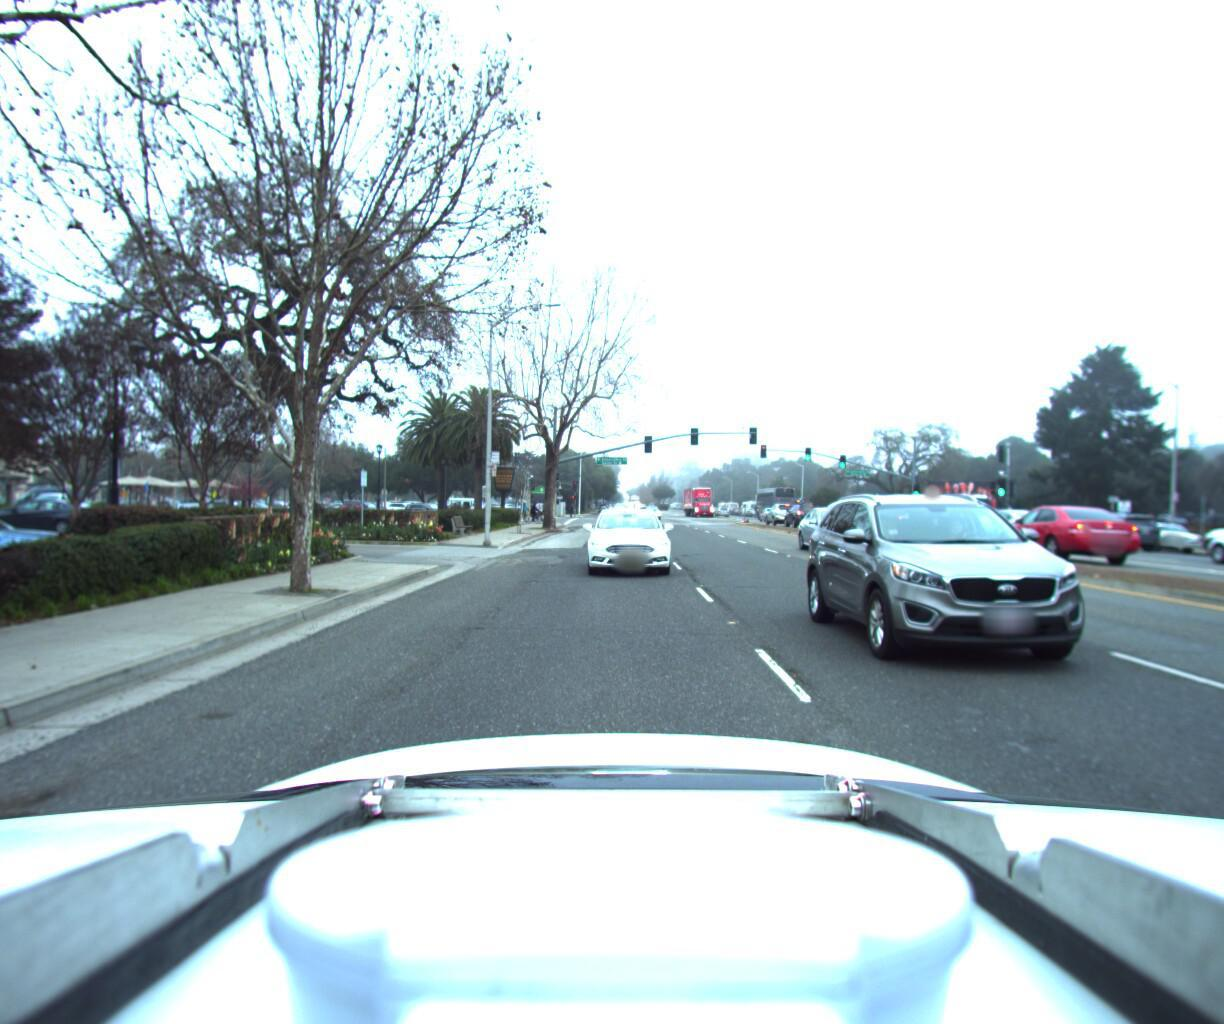bicycle: (521, 493, 546, 516)
car: (809, 470, 1217, 712), (983, 495, 1155, 558), (0, 493, 90, 591), (577, 499, 673, 577), (891, 482, 998, 540), (802, 498, 908, 556), (953, 497, 1066, 542), (1061, 502, 1159, 544), (1112, 511, 1206, 552), (836, 489, 909, 534), (1185, 507, 1224, 567), (1196, 505, 1224, 561), (781, 492, 827, 523), (0, 492, 8, 611), (763, 493, 801, 519)
other_vehicle: (445, 489, 495, 513)
